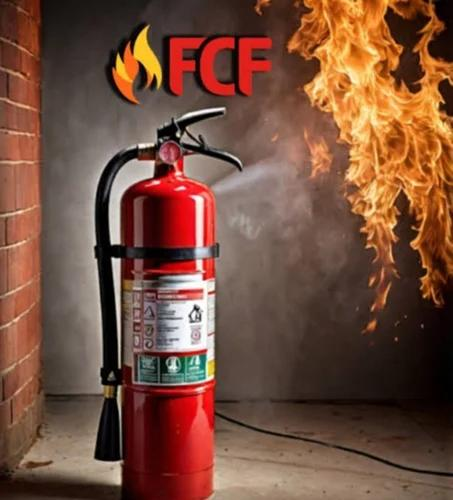floor-kept: (76, 94, 279, 500)
